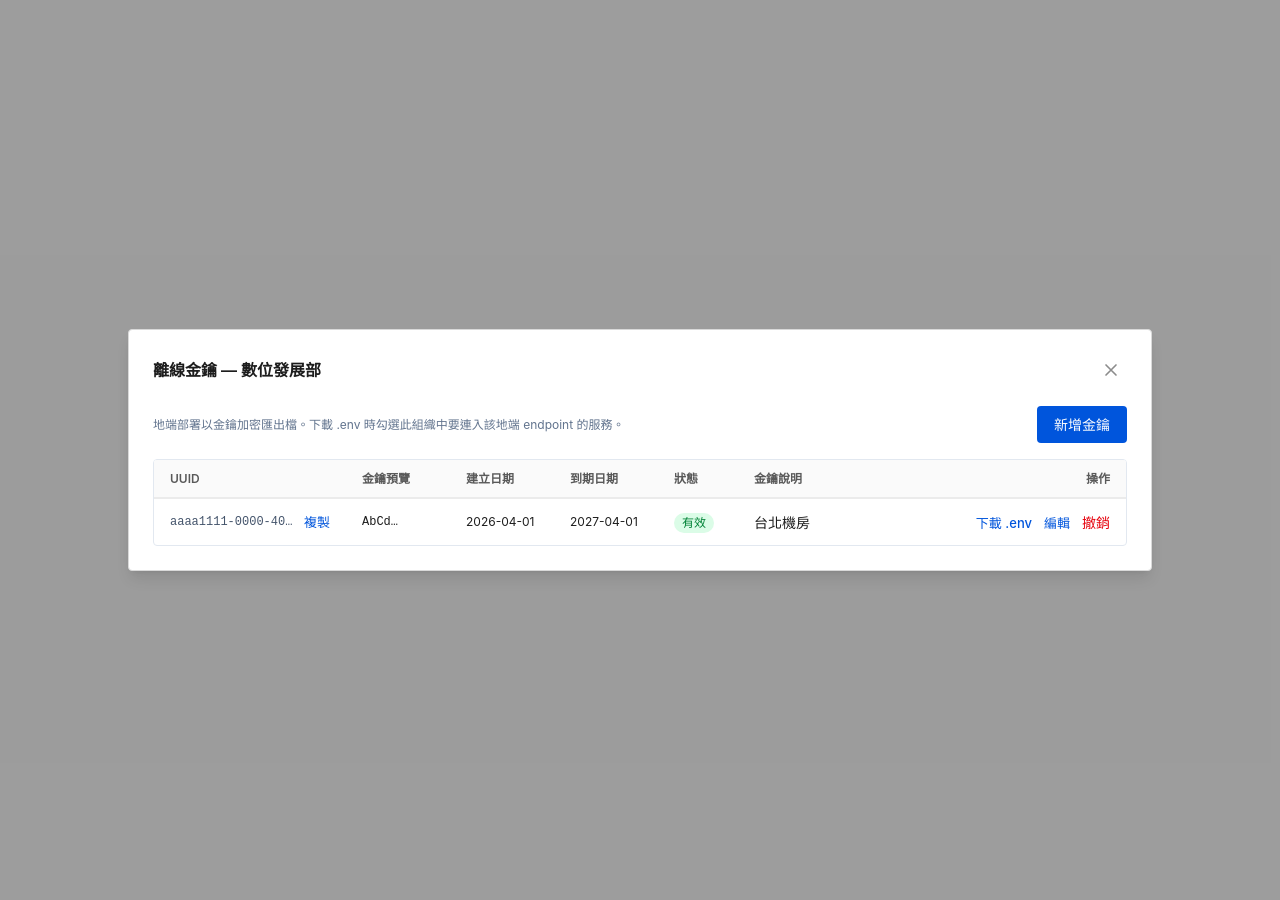
OrganizationKeysModal — create › creates a key with the trimmed description and a default expiry one year from now
The image size is (1280, 900).
Expected: the text "AbCd…" is shown, x1=346 y1=499 x2=450 y2=545
Click the button "新增金鑰" at (1082, 424), box x1=1037 y1=406 x2=1127 y2=443
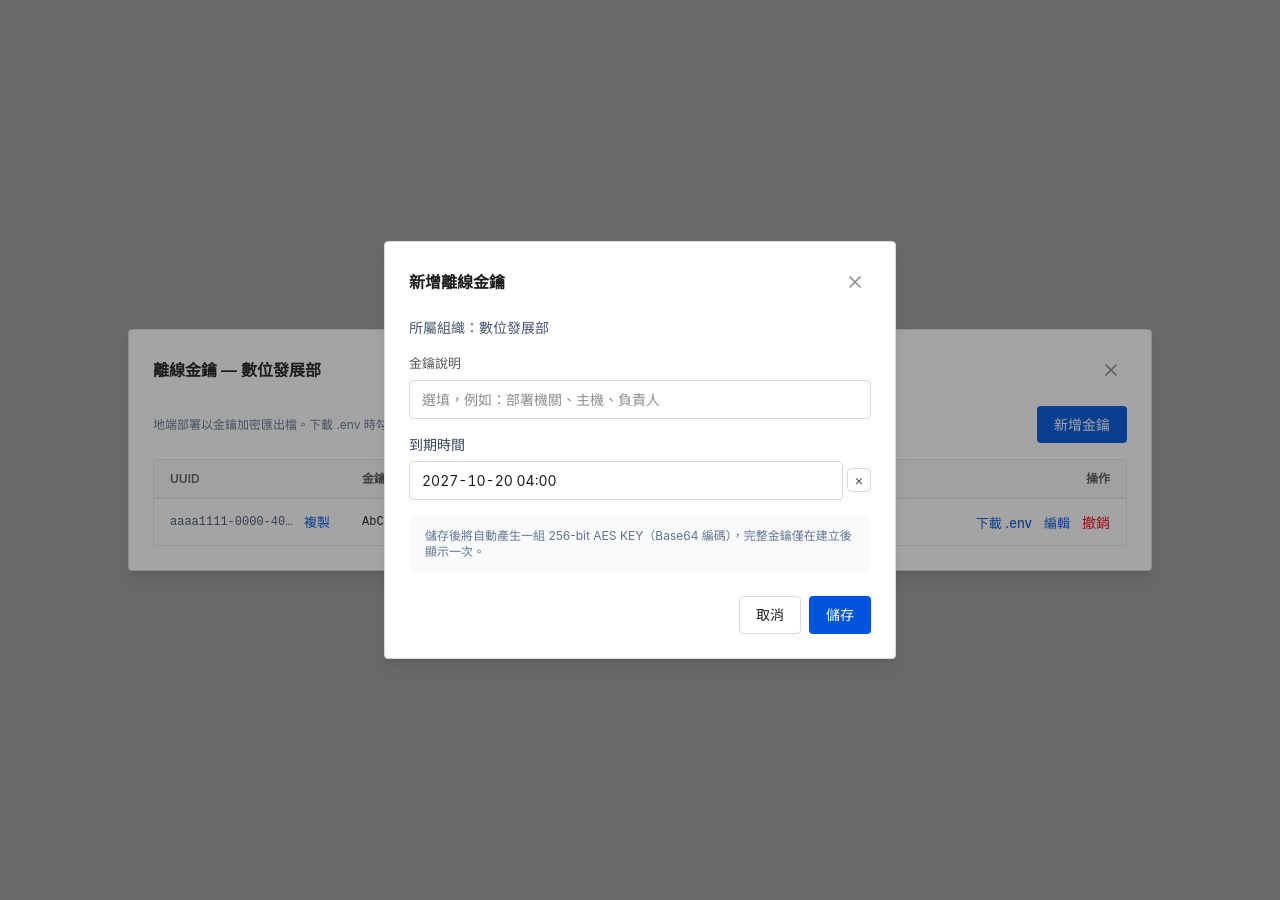
Type "  新竹機房  " into the field labelled "金鑰說明" at (640, 400), box x1=409 y1=380 x2=871 y2=419
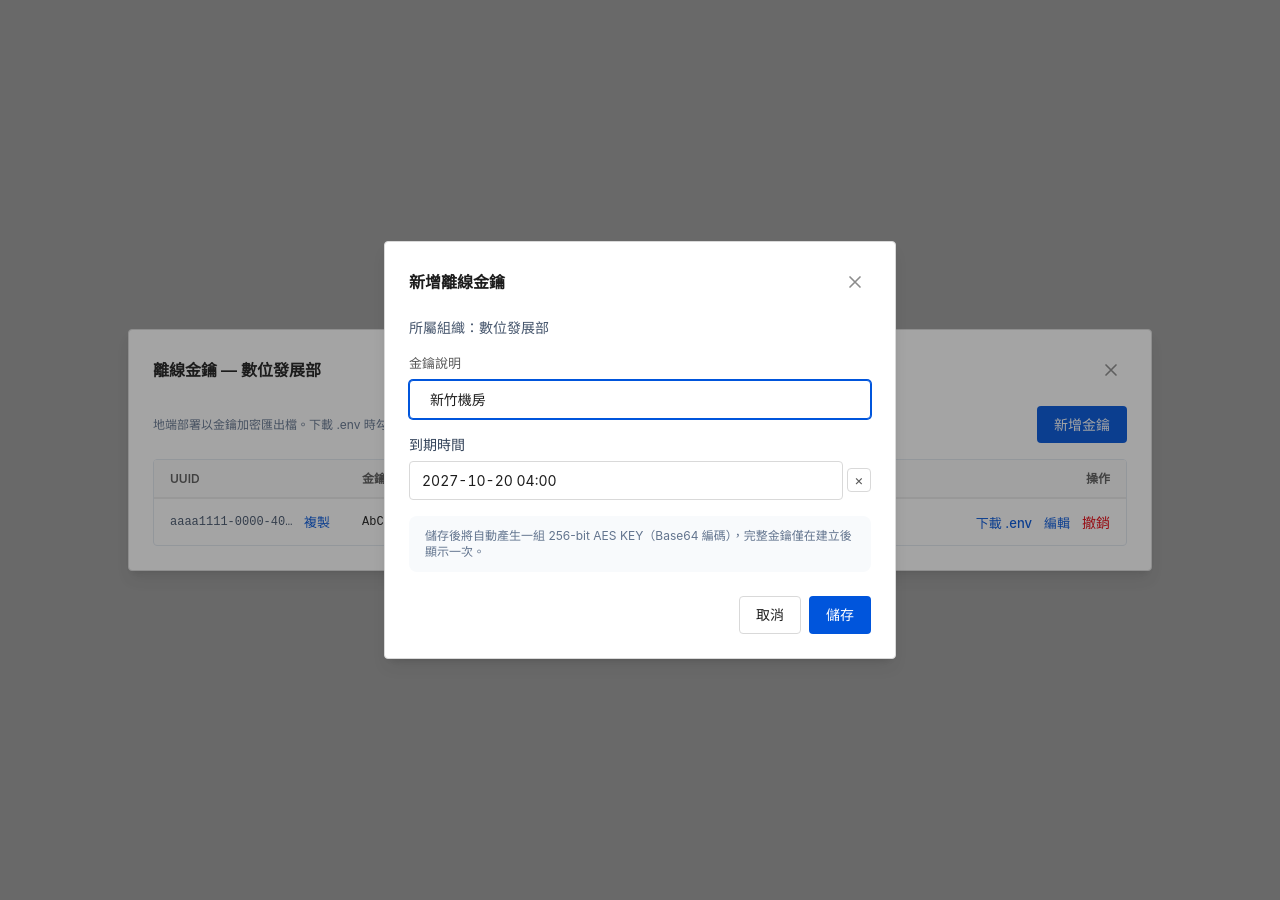
Click the button "儲存" at (840, 615), box x1=809 y1=596 x2=871 y2=634
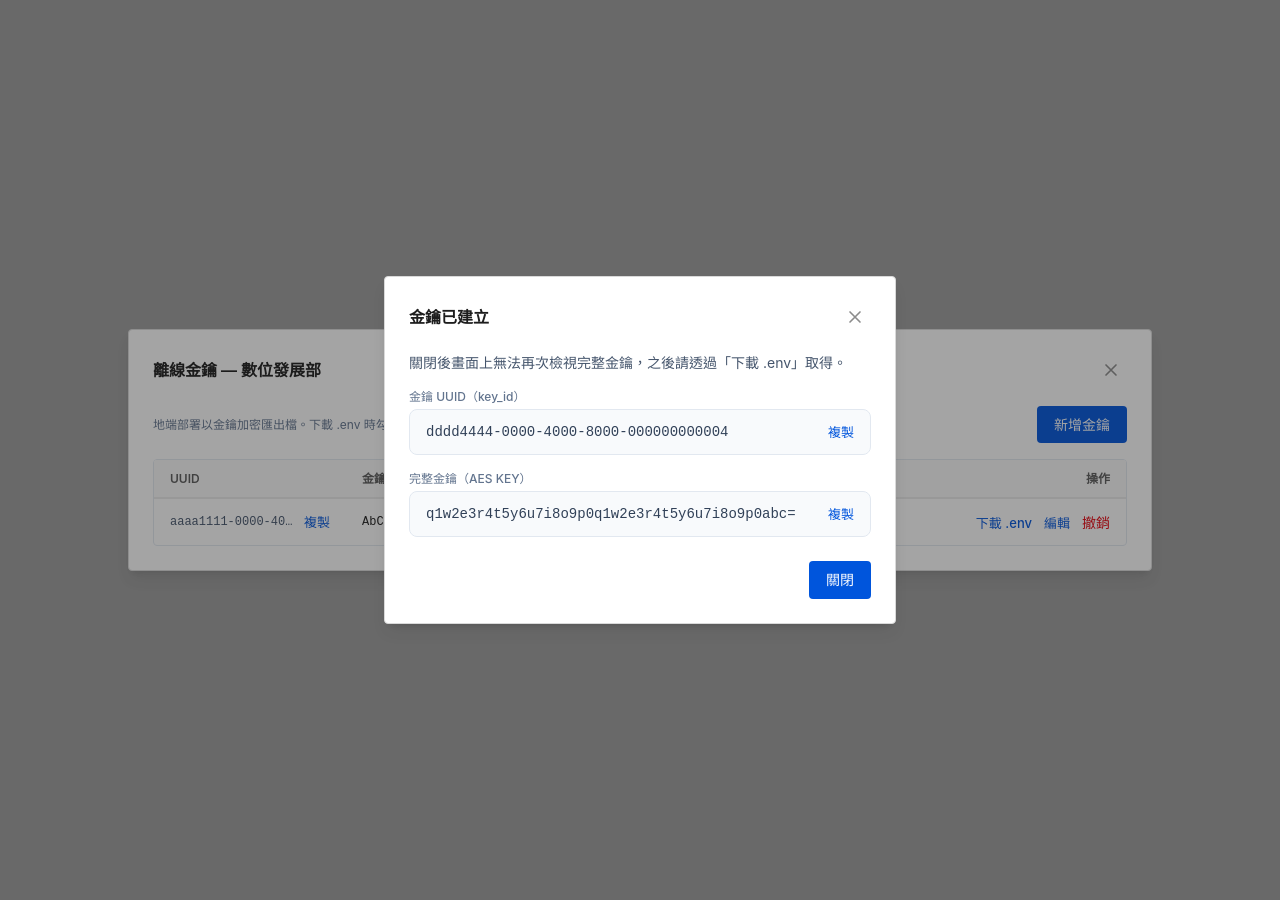
Expected: the heading "新增離線金鑰" is gone
